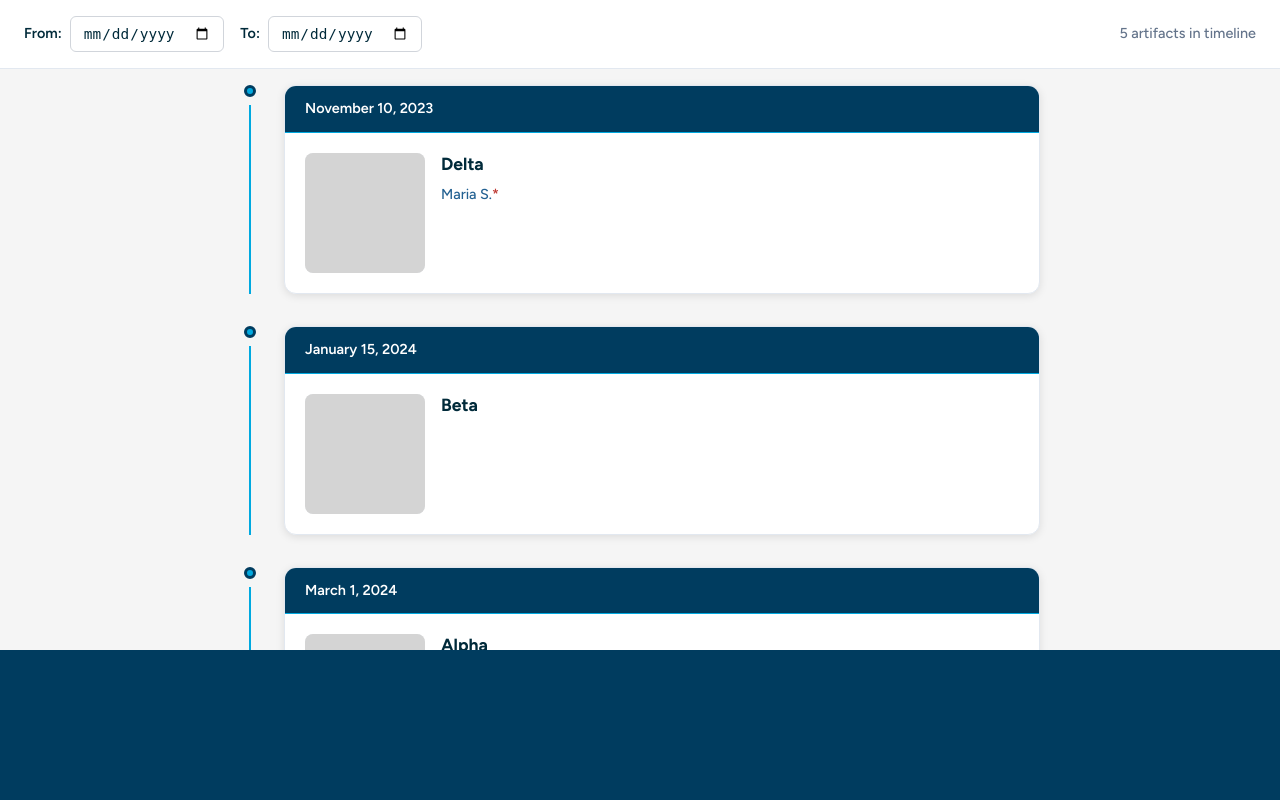
TimelineView — date filtering › excludes artifacts before the start date
Type "2024-03-01" into the date field labelled "From:".
click(147, 34); type("2024-03-01")  # box left=70, top=16, right=224, bottom=52
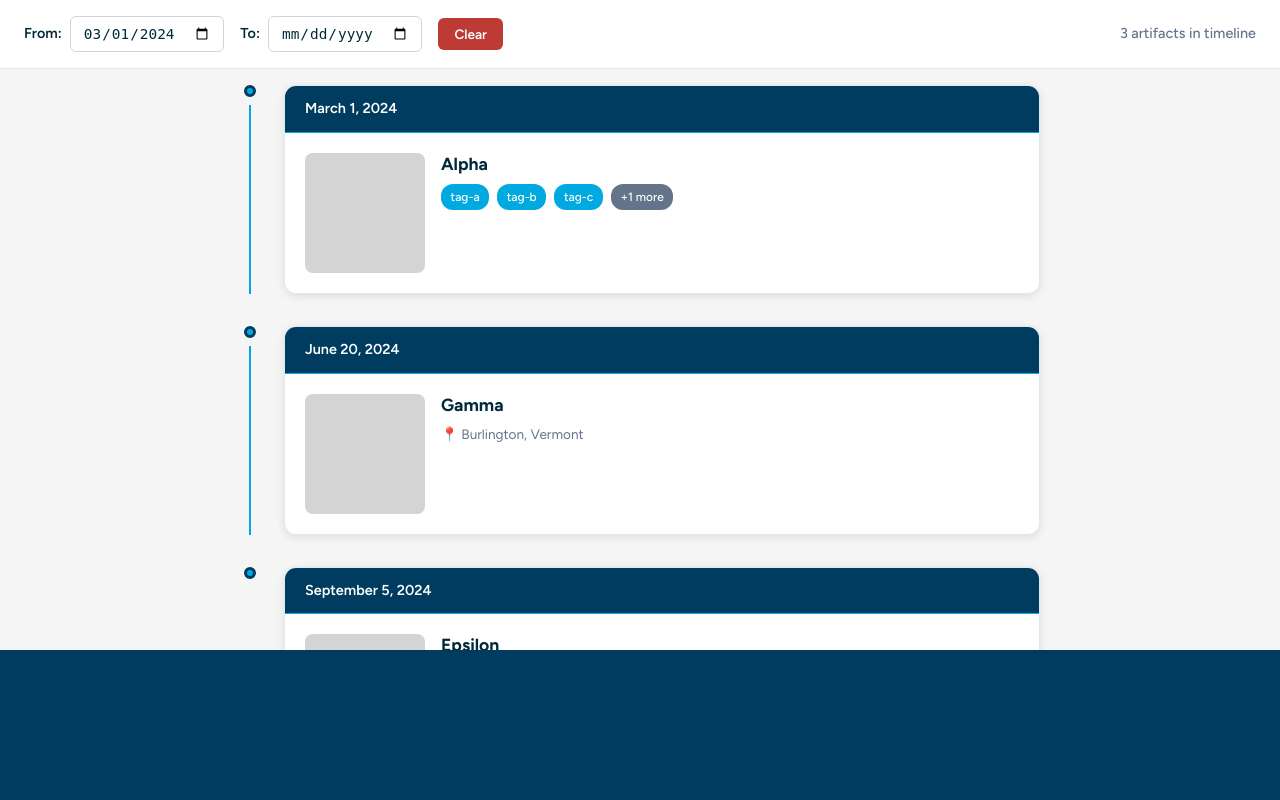
Expected: the heading "Alpha" is shown, left=441, top=153, right=488, bottom=174
Expected: the heading "Delta" is gone
Expected: the heading "Beta" is gone
